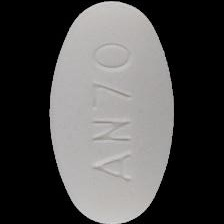55695-012: (0, 0, 224, 224)
